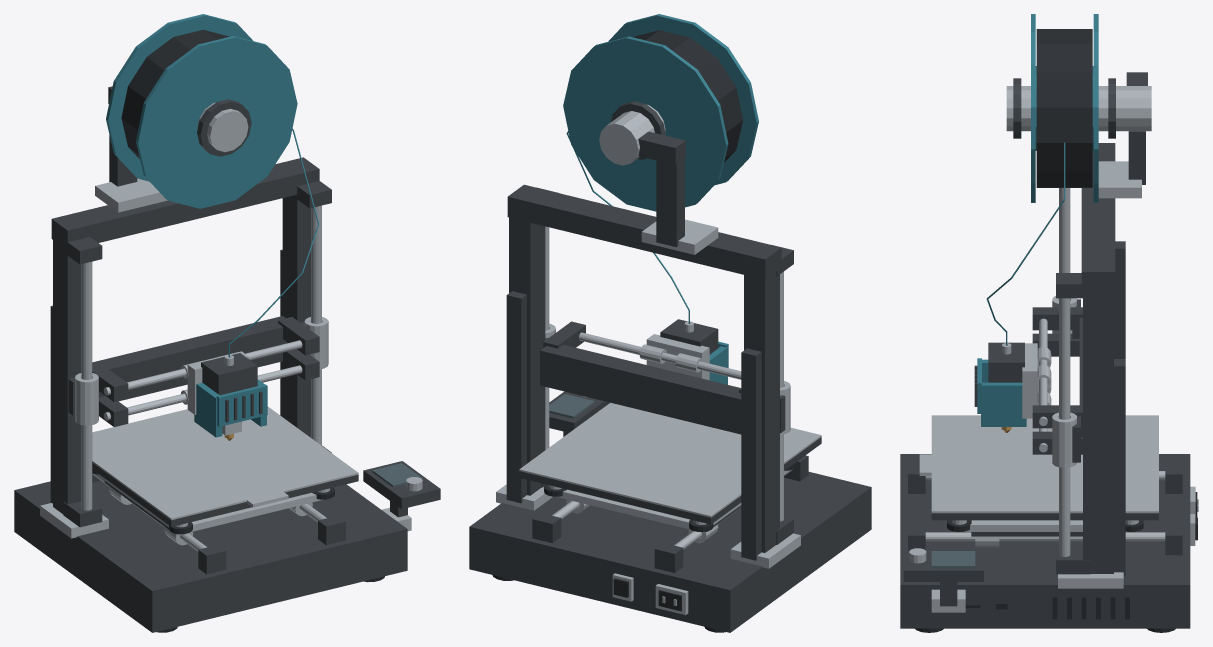
3 views of the same model, side by side, from view 1: azimuth 30°, elevation 25°; view 2: azimuth 150°, elevation 25°; view 3: azimuth 270°, elevation 25° (orthographic). The views are drawn at different scales.
Visible parts, largest first — view 1: Base_electronics_closed, Spool_flange, Removable_build_surface, Upright, Gantry_top_beam, Z_crossbeam_enclosed_drive, Upright.001, Spool_flange.001, Wound_filament, Z_guide_rod, Z_guide_rod.001, Extruder_upper_body (+26 smaller); view 2: Base_electronics_closed, Spool_flange.001, Removable_build_surface, Z_crossbeam_enclosed_drive, Gantry_top_beam, Upright, Upright.001, Upright_rear_rib, Upright_rear_rib.001, Spool_flange, Wound_filament, Spool_upright (+18 smaller); view 3: Base_electronics_closed, Removable_build_surface, Wound_filament, Upright.001, Gantry_top_beam, Spool_axle, Upright_rear_rib.001, Z_guide_rod.001, Shroud_right, Display_housing, Spool_support_foot, Heated_plate_enclosure (+29 smaller).
Part boxes in pixels (box(x1,y1,x2,y2)): Base_electronics_closed: box(14, 480, 407, 632); Spool_flange: box(136, 36, 297, 208); Removable_build_surface: box(92, 406, 358, 520); Upright: box(53, 240, 81, 513); Gantry_top_beam: box(51, 157, 319, 249); Z_crossbeam_enclosed_drive: box(92, 316, 286, 401); Upright.001: box(282, 195, 310, 437); Spool_flange.001: box(106, 14, 252, 181); Wound_filament: box(121, 29, 229, 158); Z_guide_rod: box(81, 261, 92, 510); Z_guide_rod.001: box(311, 205, 321, 445); Extruder_upper_body: box(201, 353, 257, 395); Base_electronics_closed: box(469, 472, 871, 632); Spool_flange.001: box(563, 36, 728, 211); Removable_build_surface: box(519, 402, 821, 517); Z_crossbeam_enclosed_drive: box(540, 345, 741, 434); Gantry_top_beam: box(507, 184, 781, 279); Upright: box(744, 272, 779, 552); Upright.001: box(509, 217, 545, 495); Upright_rear_rib: box(741, 348, 761, 560); Upright_rear_rib.001: box(506, 291, 526, 503); Spool_flange: box(608, 14, 758, 184); Wound_filament: box(632, 30, 742, 162); Spool_upright: box(656, 146, 684, 247); Base_electronics_closed: box(900, 454, 1190, 628); Removable_build_surface: box(931, 415, 1158, 513); Wound_filament: box(1036, 29, 1092, 187); Upright.001: box(1083, 293, 1113, 573); Gantry_top_beam: box(1081, 143, 1115, 292); Spool_axle: box(1006, 86, 1151, 131); Upright_rear_rib.001: box(1114, 359, 1125, 576); Z_guide_rod.001: box(1059, 298, 1070, 556); Shroud_right: box(981, 382, 1026, 426); Display_housing: box(903, 550, 983, 581); Spool_support_foot: box(1098, 161, 1141, 198); Heated_plate_enclosure: box(931, 513, 1158, 520).
Size of the model in its own units: 0.371 by 0.6275 by 0.3085.
